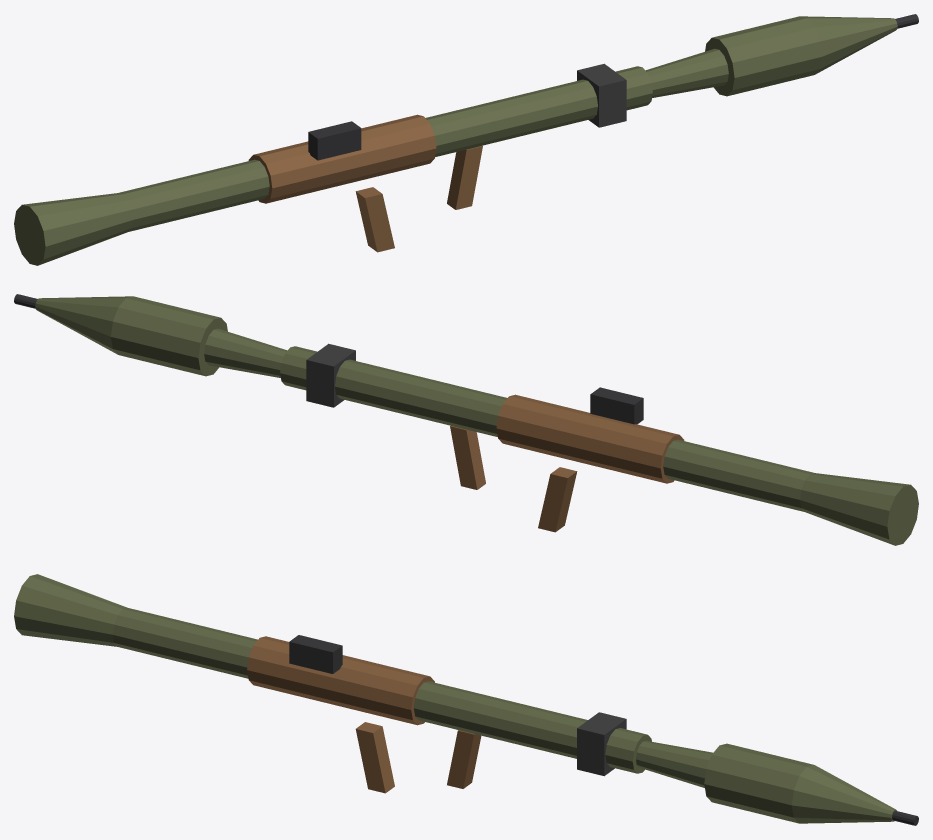
Rendered from gun_rocket_c3.glb.
The picture shows the model from 3 angles, top to bottom: view 1: azimuth 30°, elevation 25°; view 2: azimuth 150°, elevation 25°; view 3: azimuth 330°, elevation 25°; orthographic projection.
Parts seen in each view (by area): view 1: tube, guard, warhead, flare, cone, neck, tape, grip, optic, foregrip; view 2: tube, guard, warhead, flare, cone, neck, tape, grip, foregrip, optic; view 3: tube, guard, warhead, flare, cone, neck, tape, grip, optic, foregrip.
Part boxes in pixels (bbox=[...]): tube: bbox=[118, 66, 652, 231]; guard: bbox=[248, 114, 436, 203]; warhead: bbox=[705, 16, 821, 96]; flare: bbox=[14, 193, 132, 265]; cone: bbox=[800, 16, 897, 74]; neck: bbox=[645, 48, 728, 97]; tape: bbox=[577, 63, 626, 127]; grip: bbox=[355, 187, 394, 252]; optic: bbox=[308, 121, 361, 160]; foregrip: bbox=[447, 146, 482, 209]; tube: bbox=[280, 346, 814, 511]; guard: bbox=[496, 394, 684, 483]; warhead: bbox=[111, 296, 227, 376]; flare: bbox=[800, 473, 918, 545]; cone: bbox=[35, 296, 132, 354]; neck: bbox=[204, 328, 287, 377]; tape: bbox=[306, 343, 355, 407]; grip: bbox=[538, 467, 577, 532]; foregrip: bbox=[450, 426, 485, 489]; optic: bbox=[590, 387, 643, 424]; tube: bbox=[112, 608, 651, 773]; guard: bbox=[247, 636, 434, 725]; warhead: bbox=[704, 743, 813, 823]; flare: bbox=[14, 574, 127, 646]; cone: bbox=[792, 765, 896, 823]; neck: bbox=[636, 740, 712, 787]; tape: bbox=[577, 712, 626, 776]; grip: bbox=[355, 722, 394, 793]; optic: bbox=[289, 635, 342, 673]; foregrip: bbox=[447, 730, 481, 788].
Bounding box in the file's own units: 1.62 × 0.24 × 0.1.
